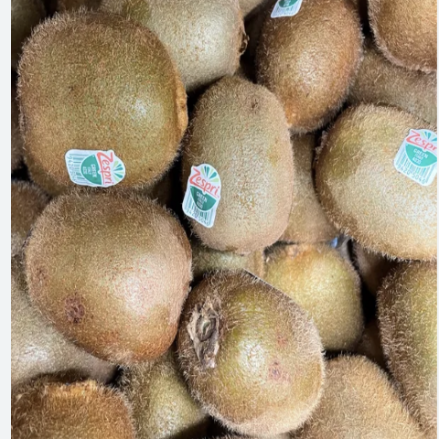kiwi: (14, 9, 202, 210), (21, 171, 209, 367), (146, 276, 350, 437), (176, 71, 313, 273), (315, 82, 439, 267)
